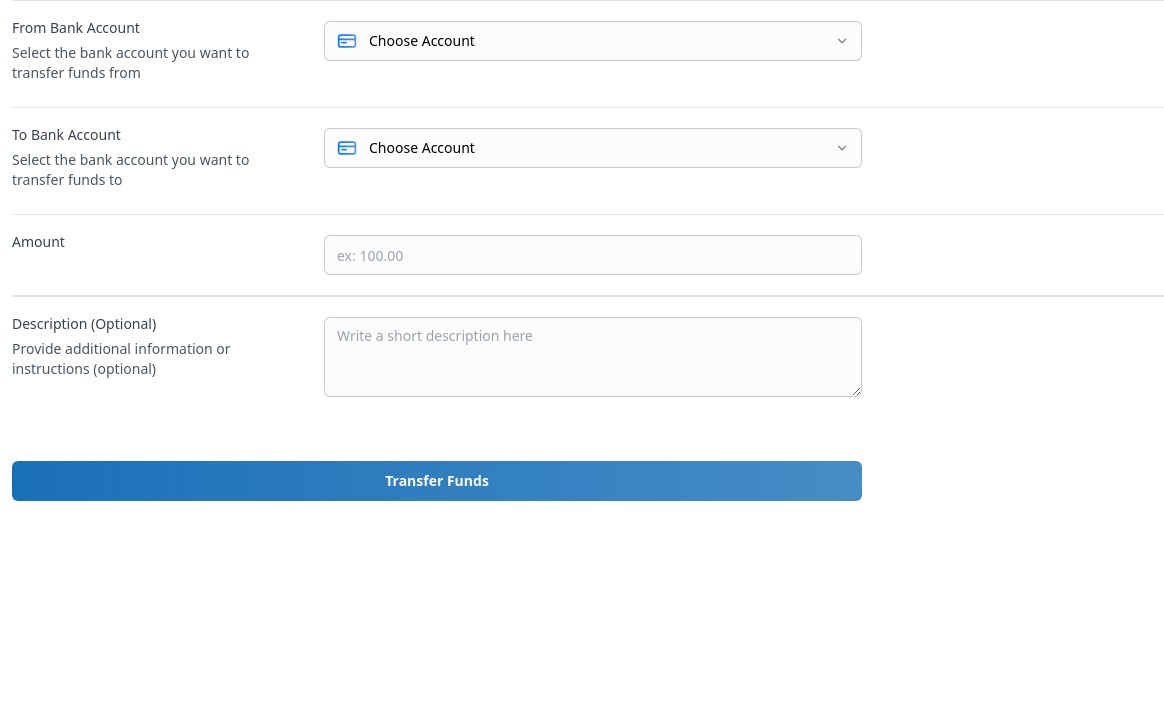
Scenario: TransferFundsForm Component › should display error when transferring between the same account
The width and height of the screenshot is (1164, 720).
Note: Select the same account for fromBank and toBank
Click the dropdown labelled "Choose Account" in the row of "From Bank Account": (422, 40) 324,21 -> 862,61
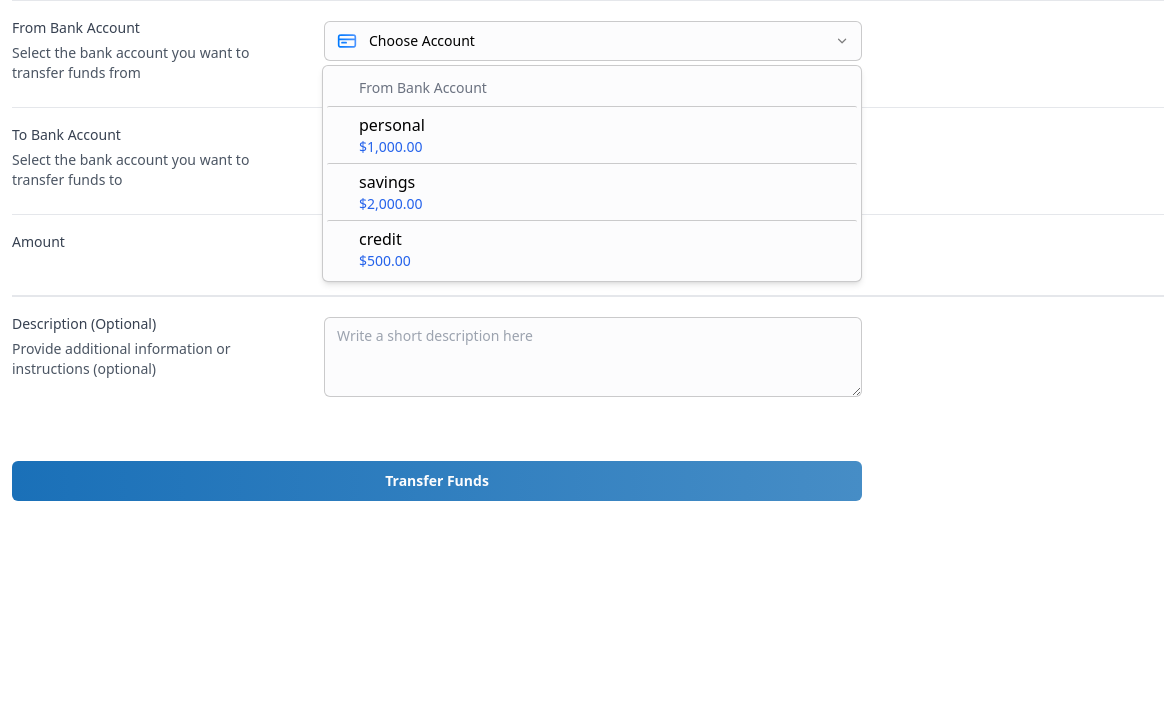
Click the text "personal": (392, 125) 359,113 -> 425,137
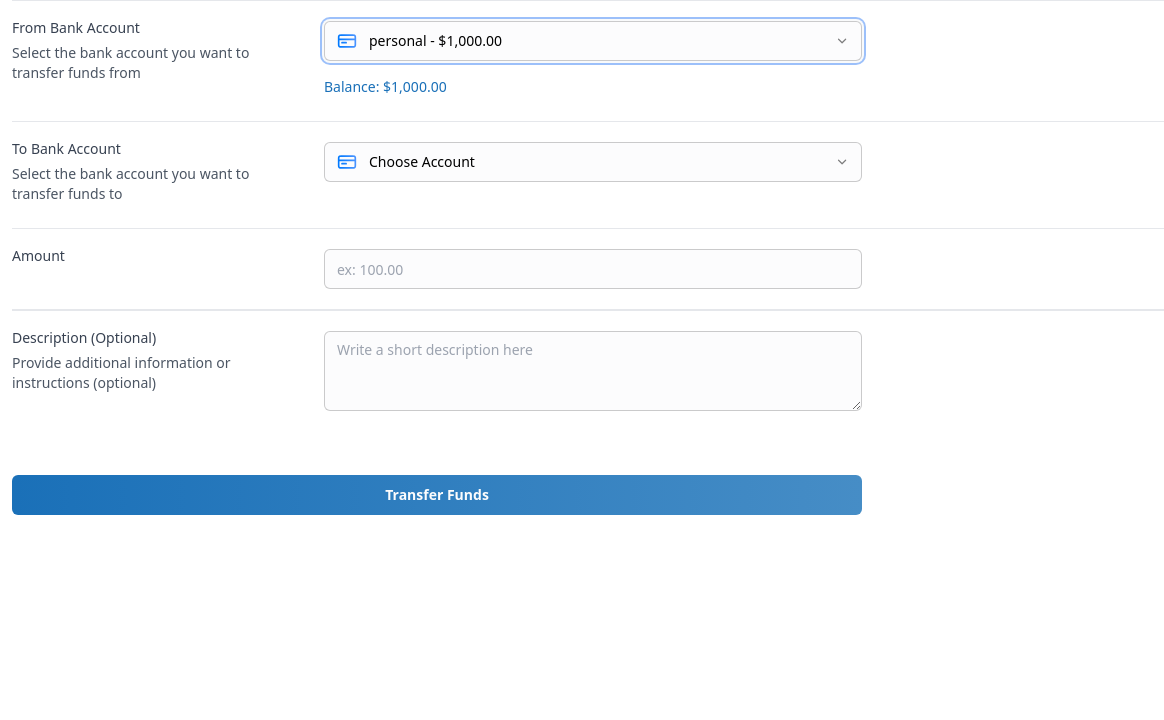
Click the dropdown labelled "Choose Account": (422, 162) 324,142 -> 862,182
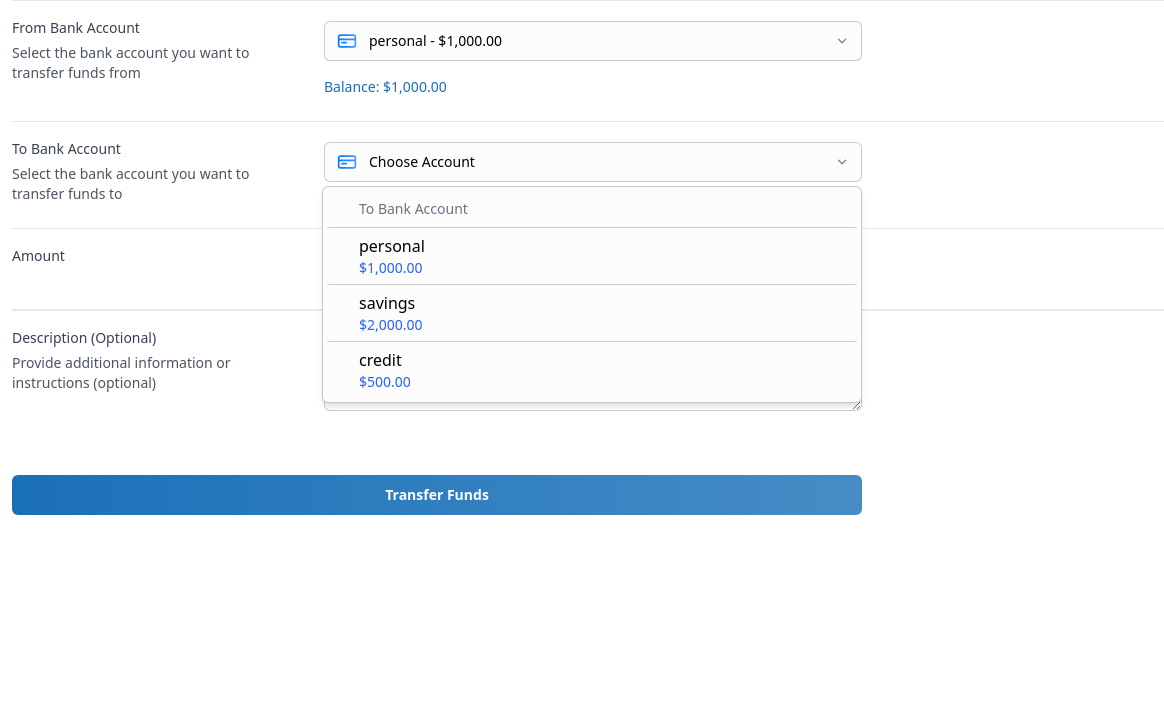
Click the text "personal": (392, 246) 359,234 -> 425,258
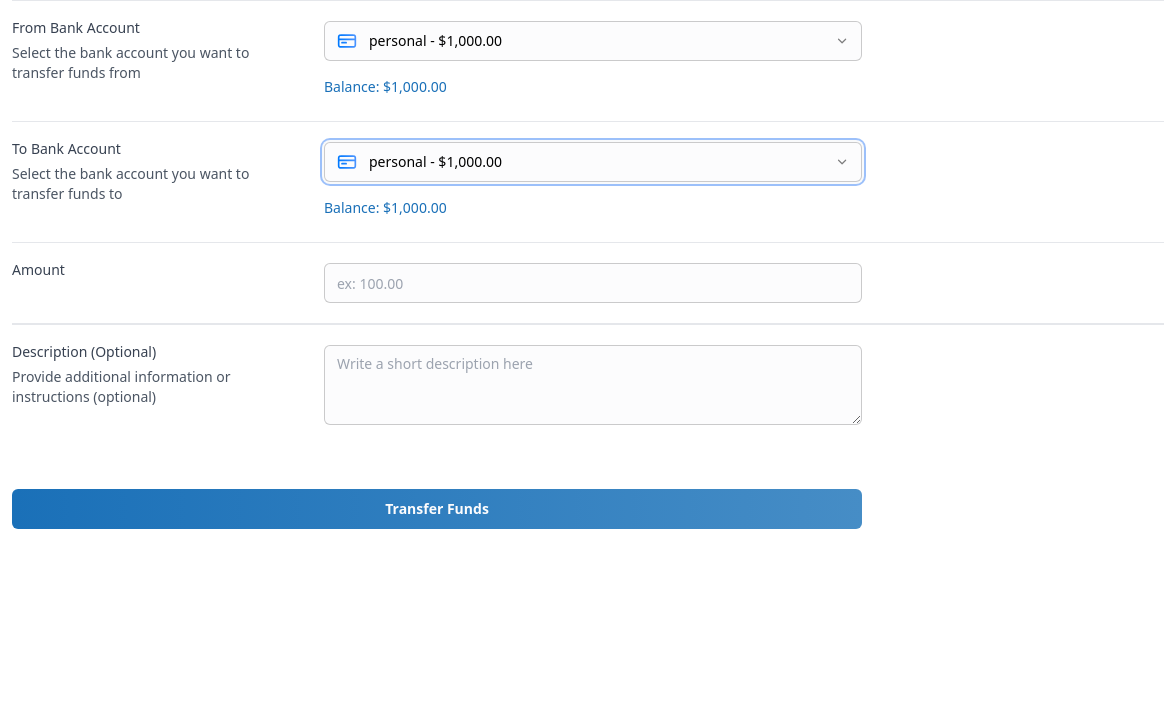
Note: Enter amount
In the field with placeholder "ex: 100.00": (593, 283) 324,263 -> 862,303, type "100"
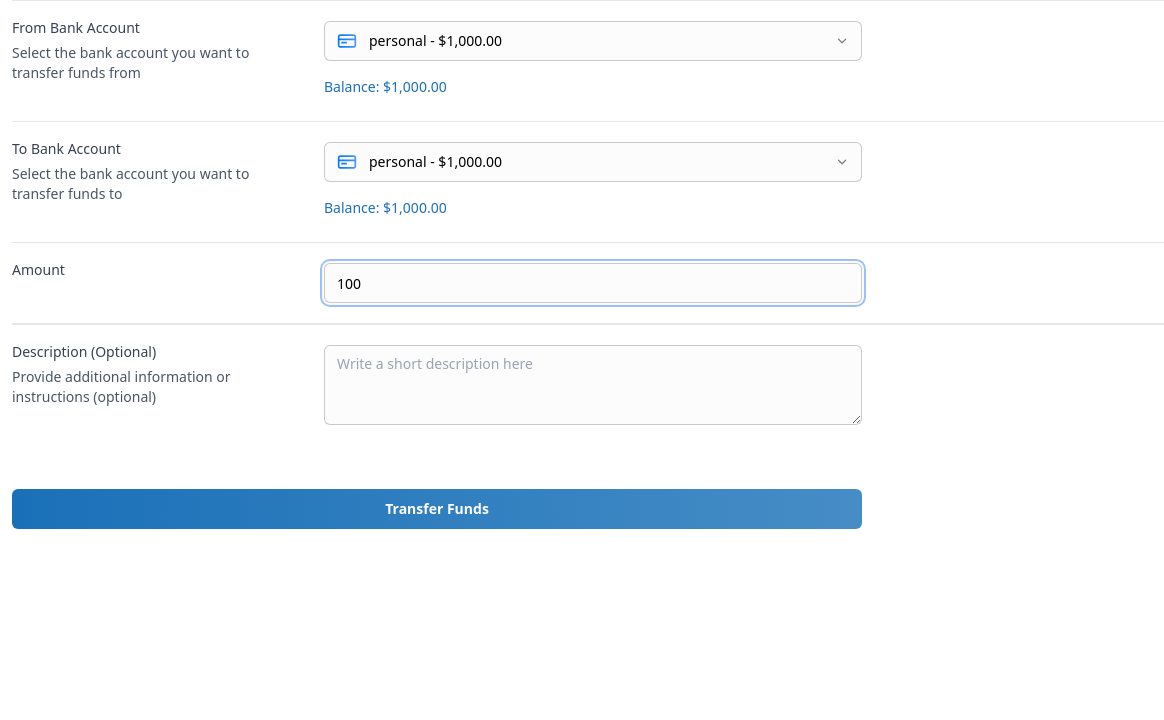
Note: Click on submit button
Click the button "Transfer Funds": (437, 509) 12,489 -> 862,529
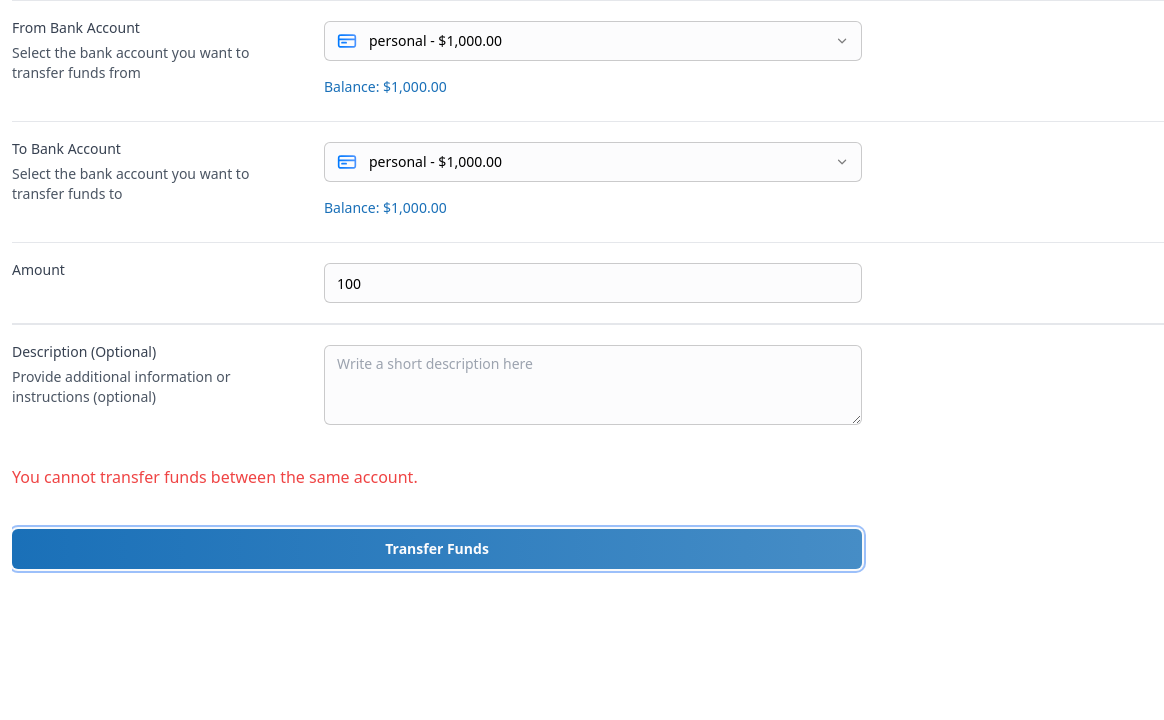
Now the text "You cannot transfer funds between the same account." is shown, box 12,466 -> 418,488
